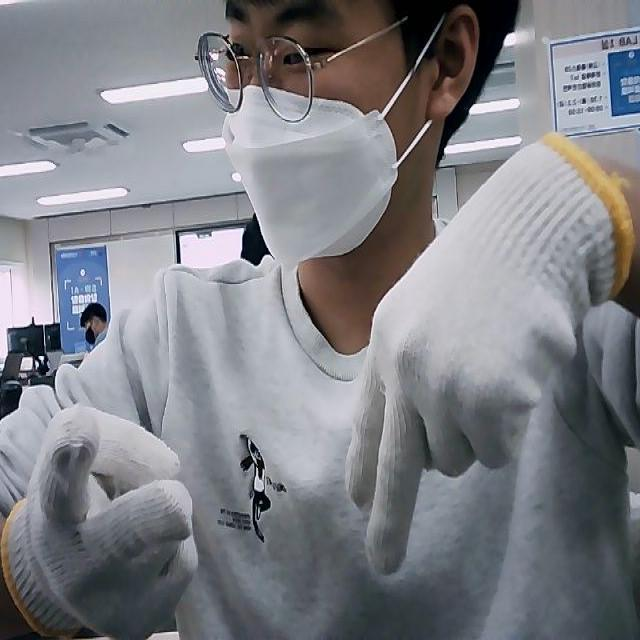gloves: (344, 132, 632, 575), (0, 405, 200, 640)
